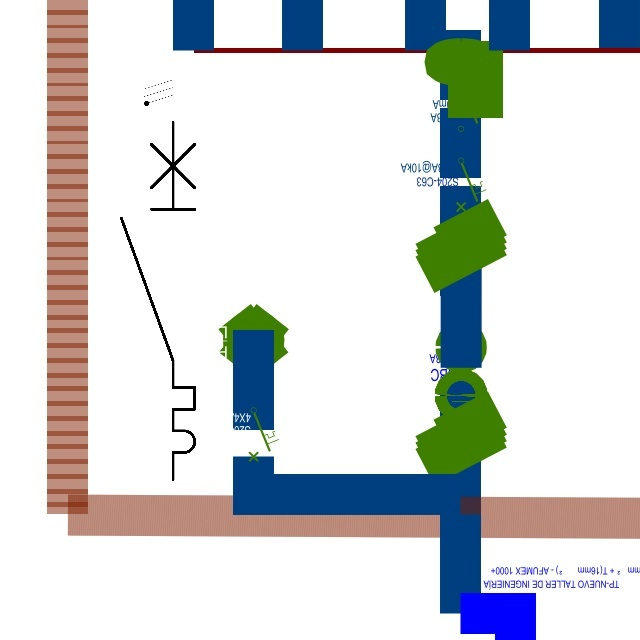interruptor_termomagnetico: (112, 113, 204, 489)
